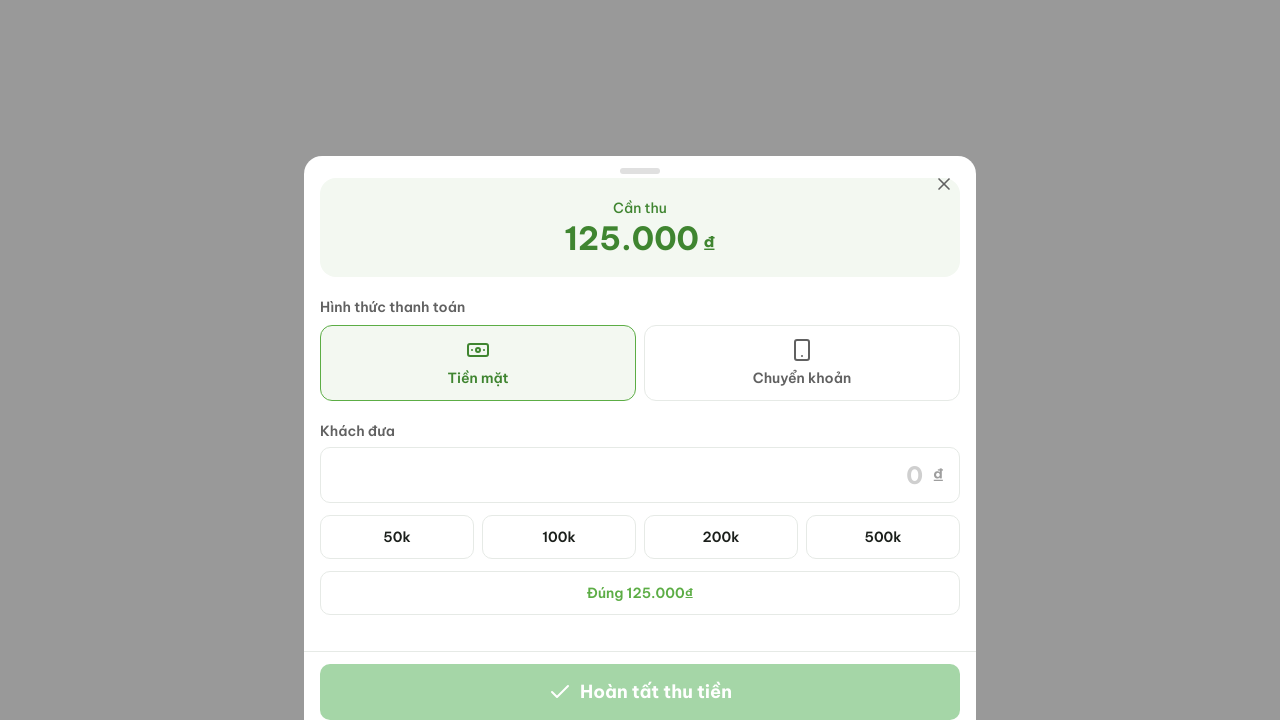
it: PaymentSheet transfer › renders configured bank details and VietQR URL with payment reference/note
Click the button "Chuyển khoản" at [802, 363], box [644, 325, 960, 401]
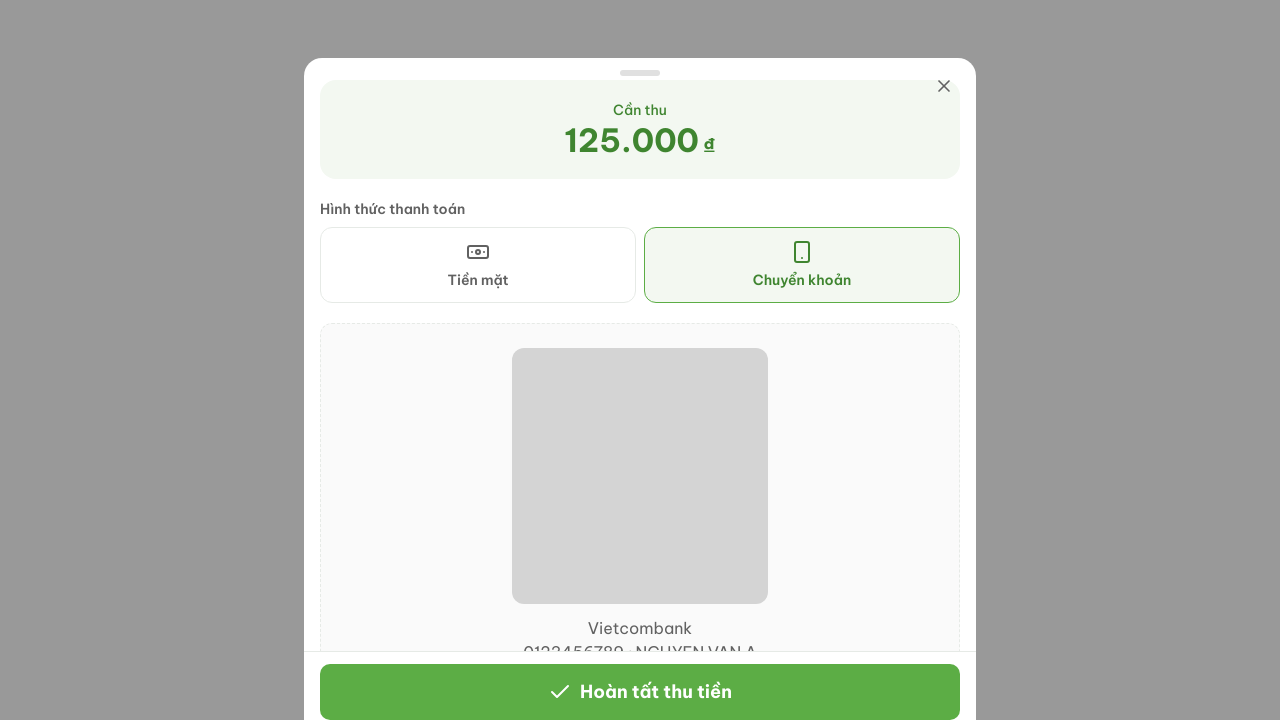
Expected: the text "Vietcombank0123456789 · NGUYEN VAN A125.000₫" is shown, [588, 618, 692, 638]
